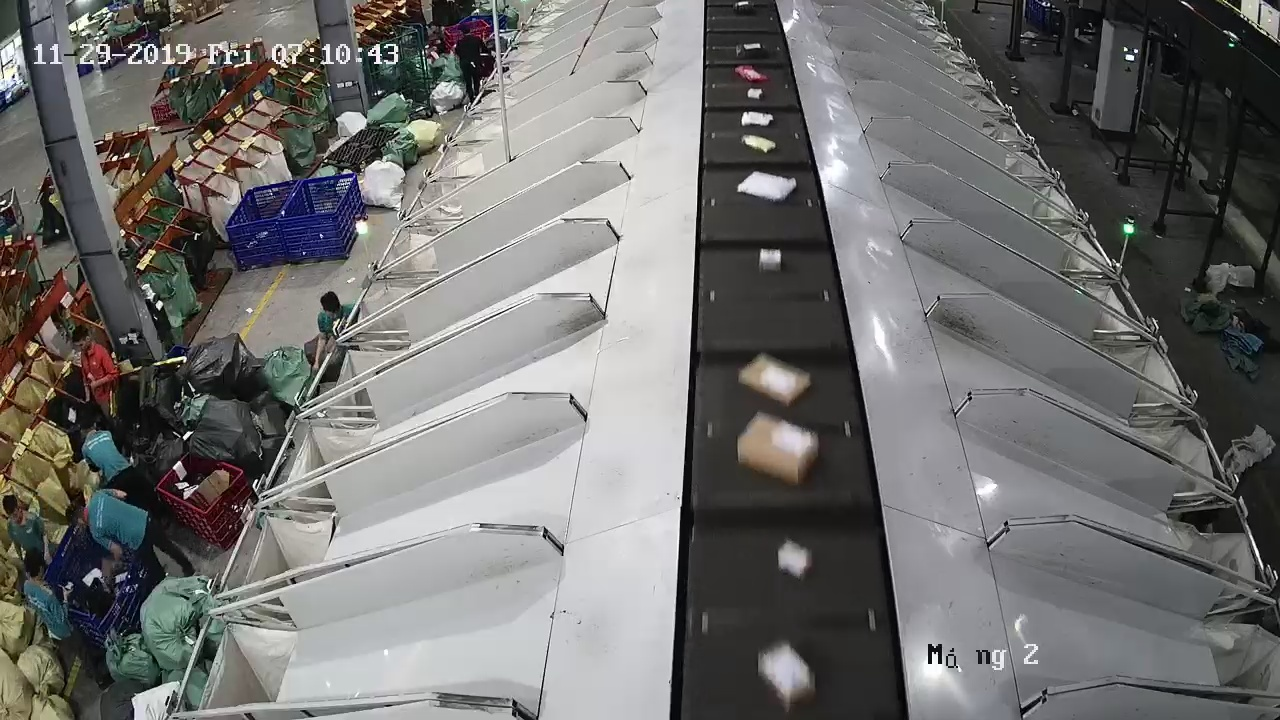parcel: (737, 412, 820, 487), (760, 642, 817, 713), (740, 356, 812, 408), (737, 171, 797, 202), (777, 542, 812, 581), (758, 248, 782, 273), (743, 135, 776, 153), (741, 111, 774, 127)
